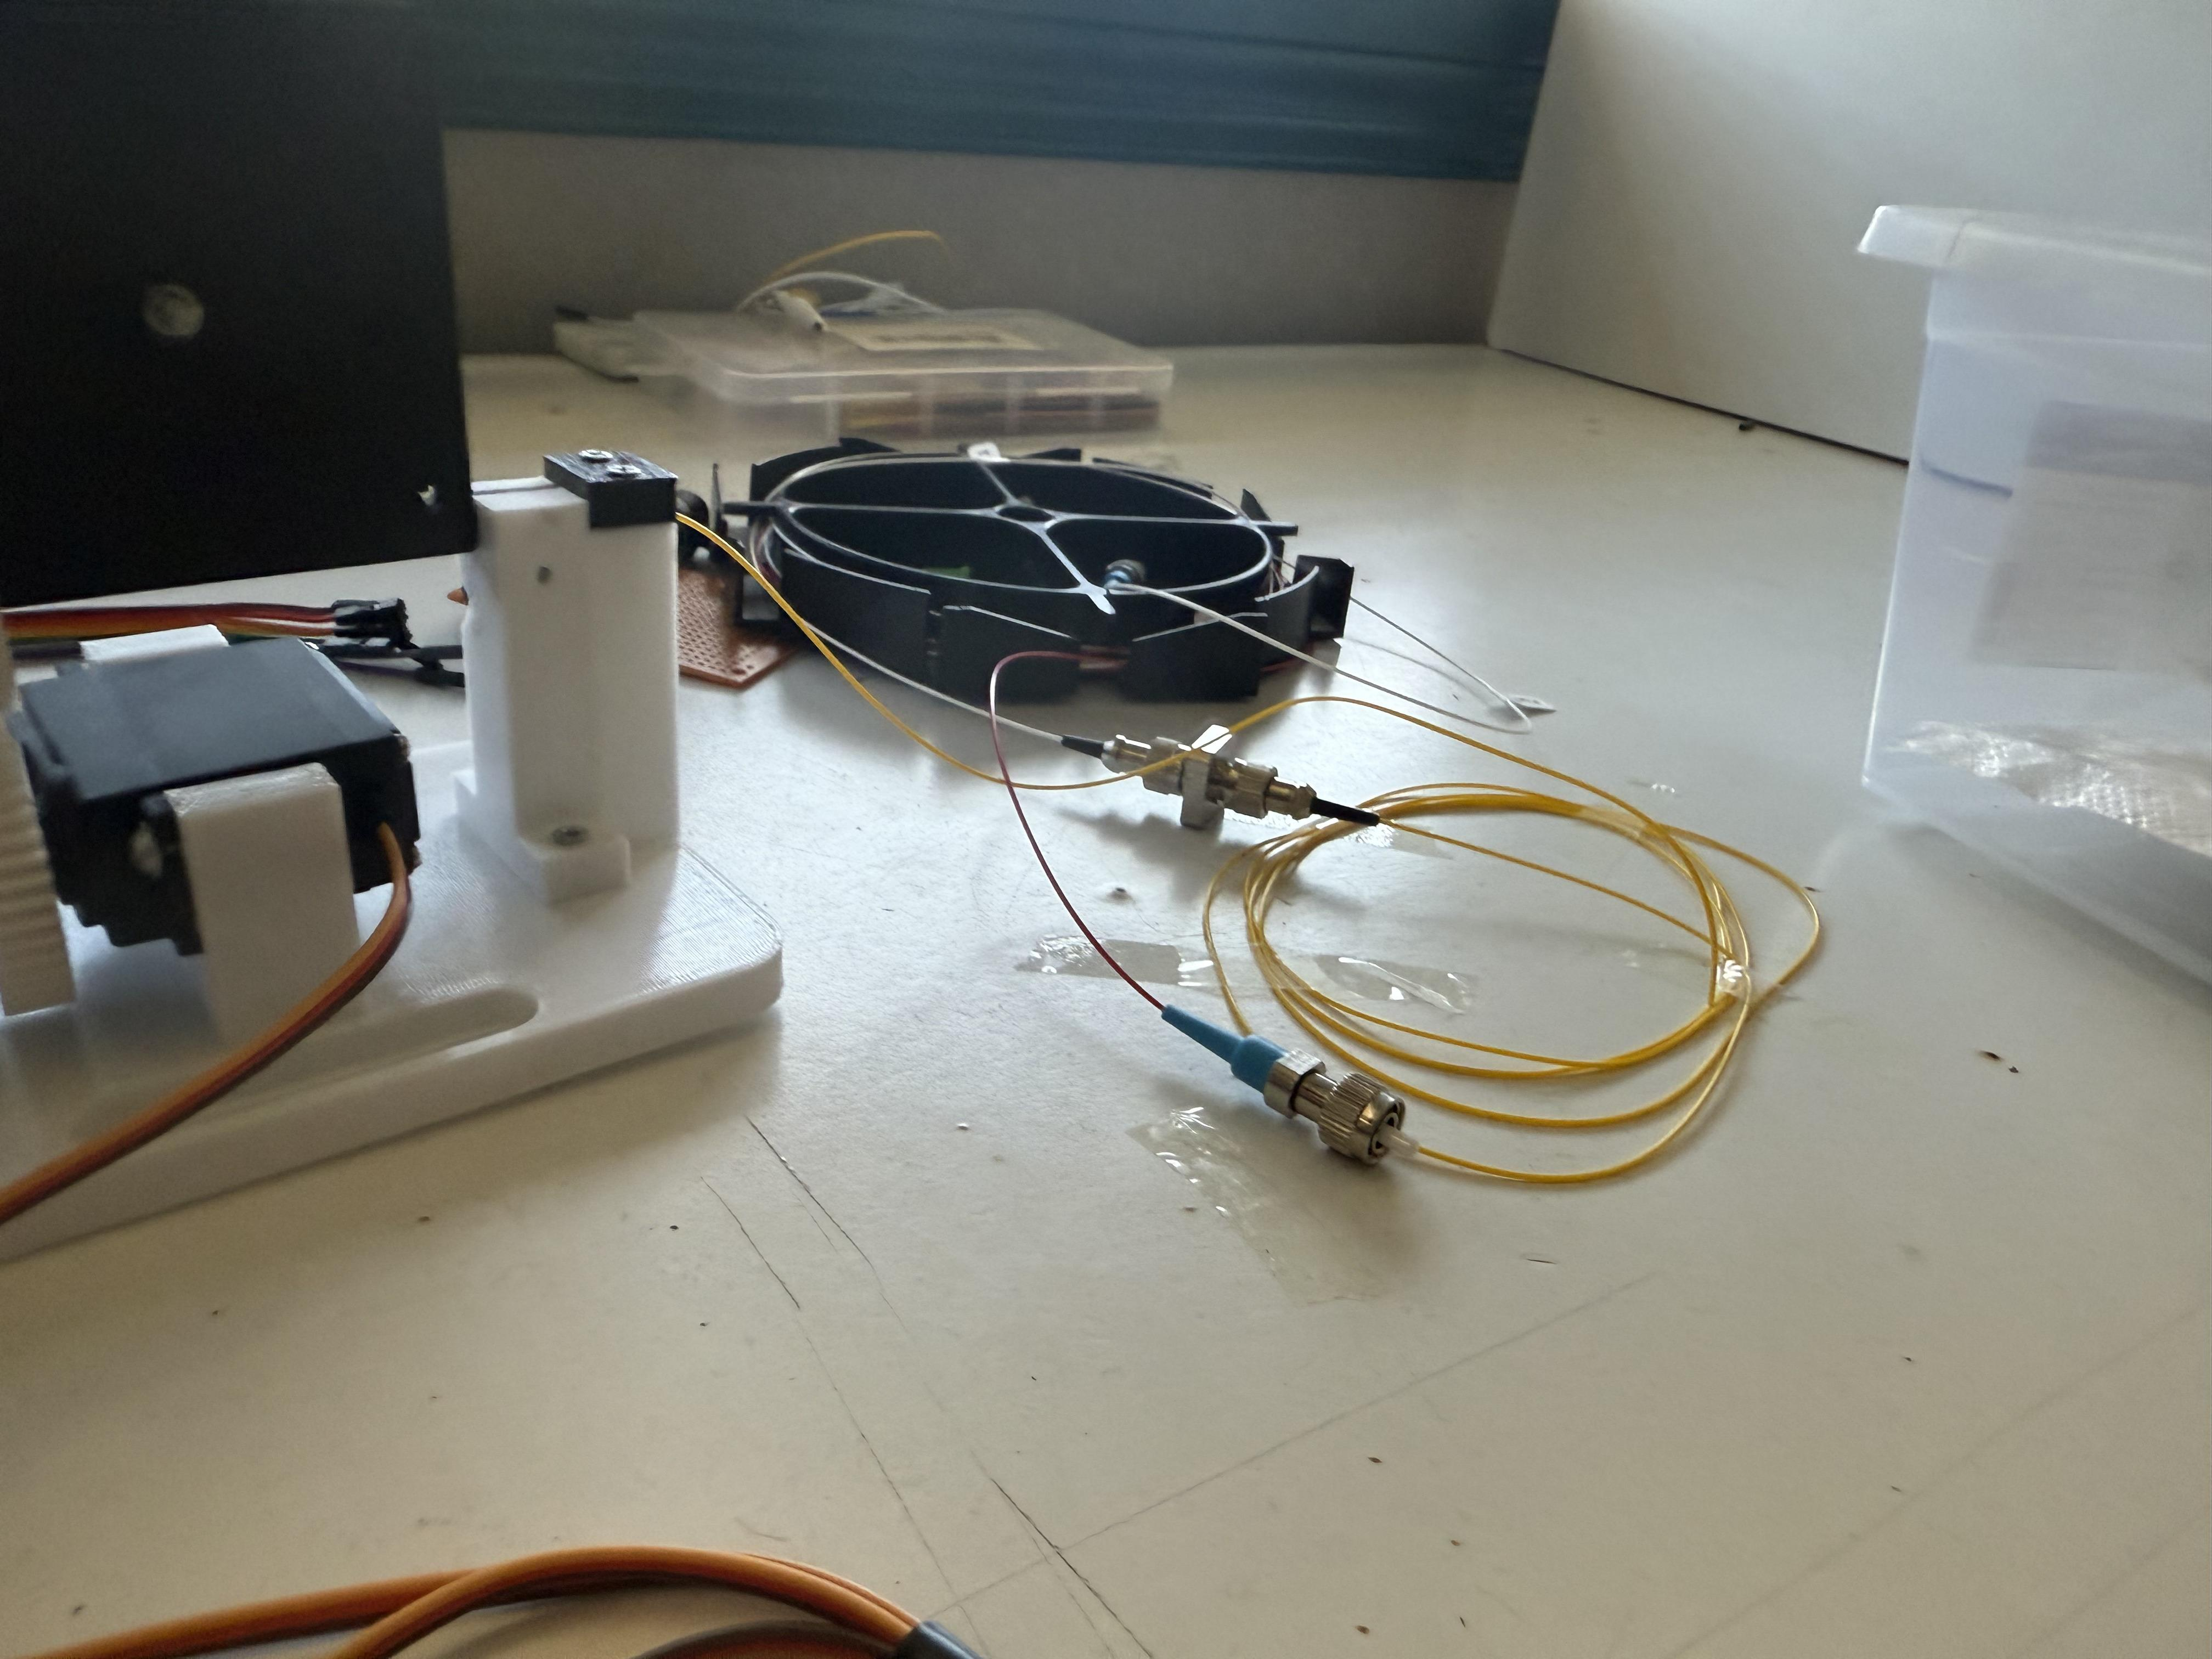fiber_cable: (1012, 661, 1951, 1307)
paddle_polarization_controller: (0, 0, 812, 1042)
